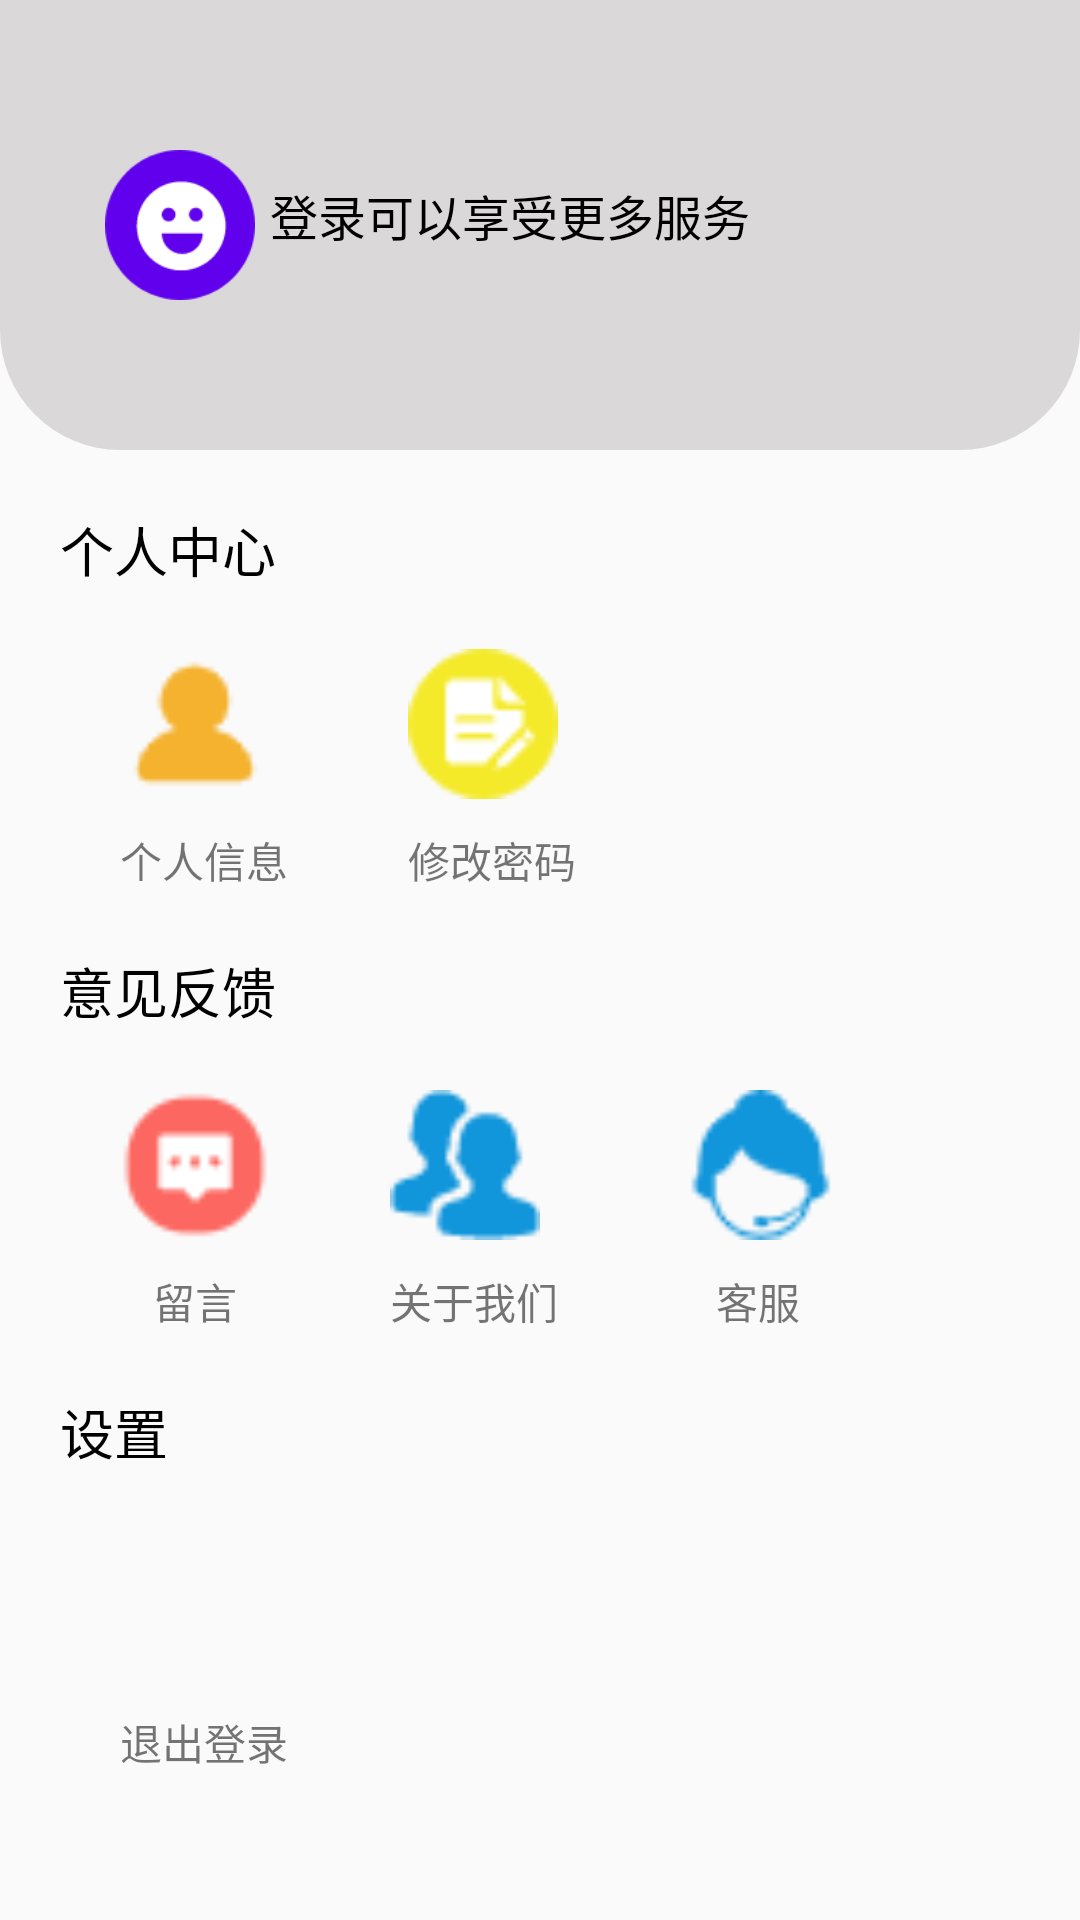

Screen size 1080×1920. Icon name, then its box in pixels as region(x1, y1, x2, y2):
feedback: region(124, 1094, 266, 1236)
myhead: region(105, 150, 255, 300)
person: region(134, 662, 256, 785)
record: region(408, 649, 558, 799)
